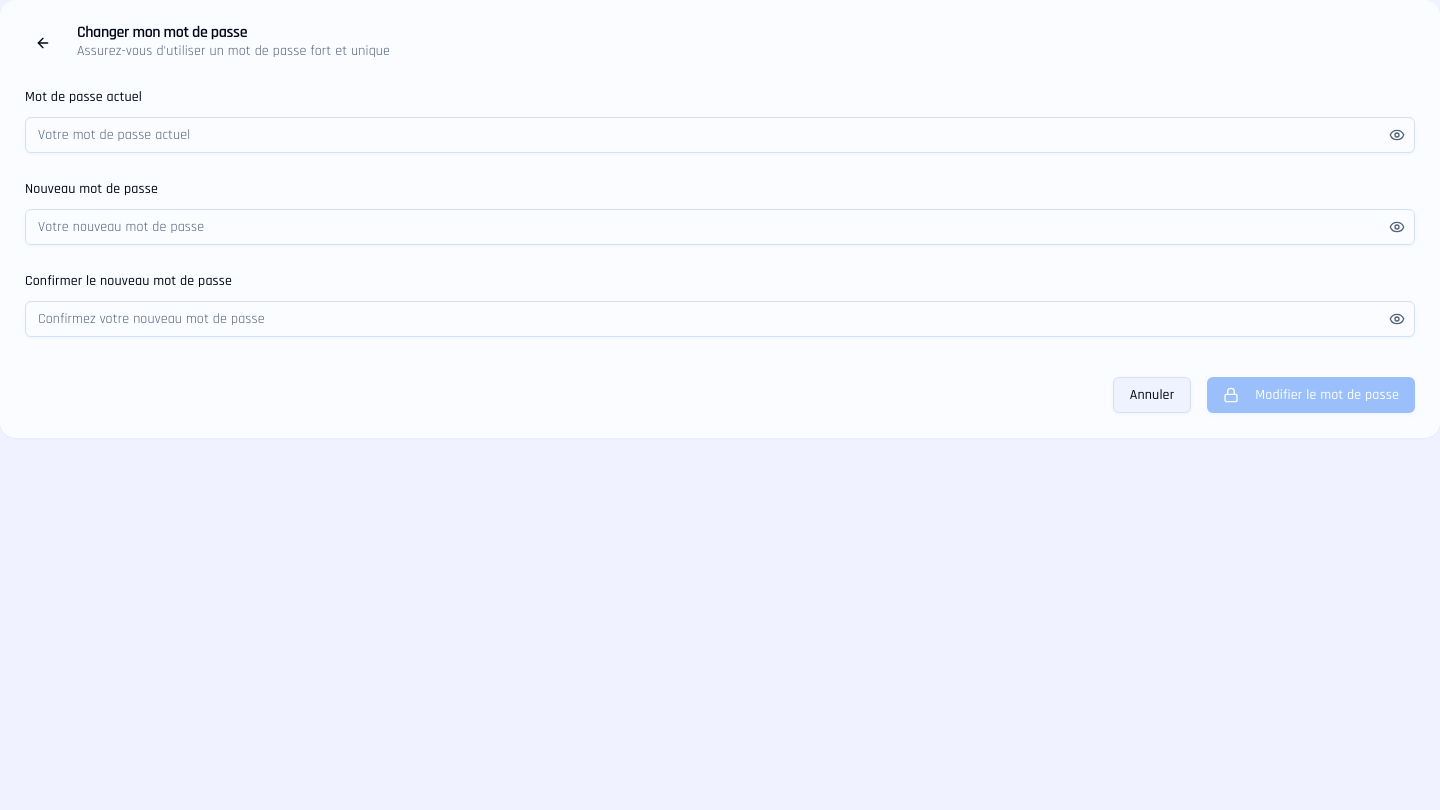
Test: ChangePasswordForm › Validation côté client › should show error when newPassword is too weak
The image size is (1440, 810).
Type "OldPass123!" into the password field with test id "input-currentPassword" at point(720, 135), box [25,117,1415,153]
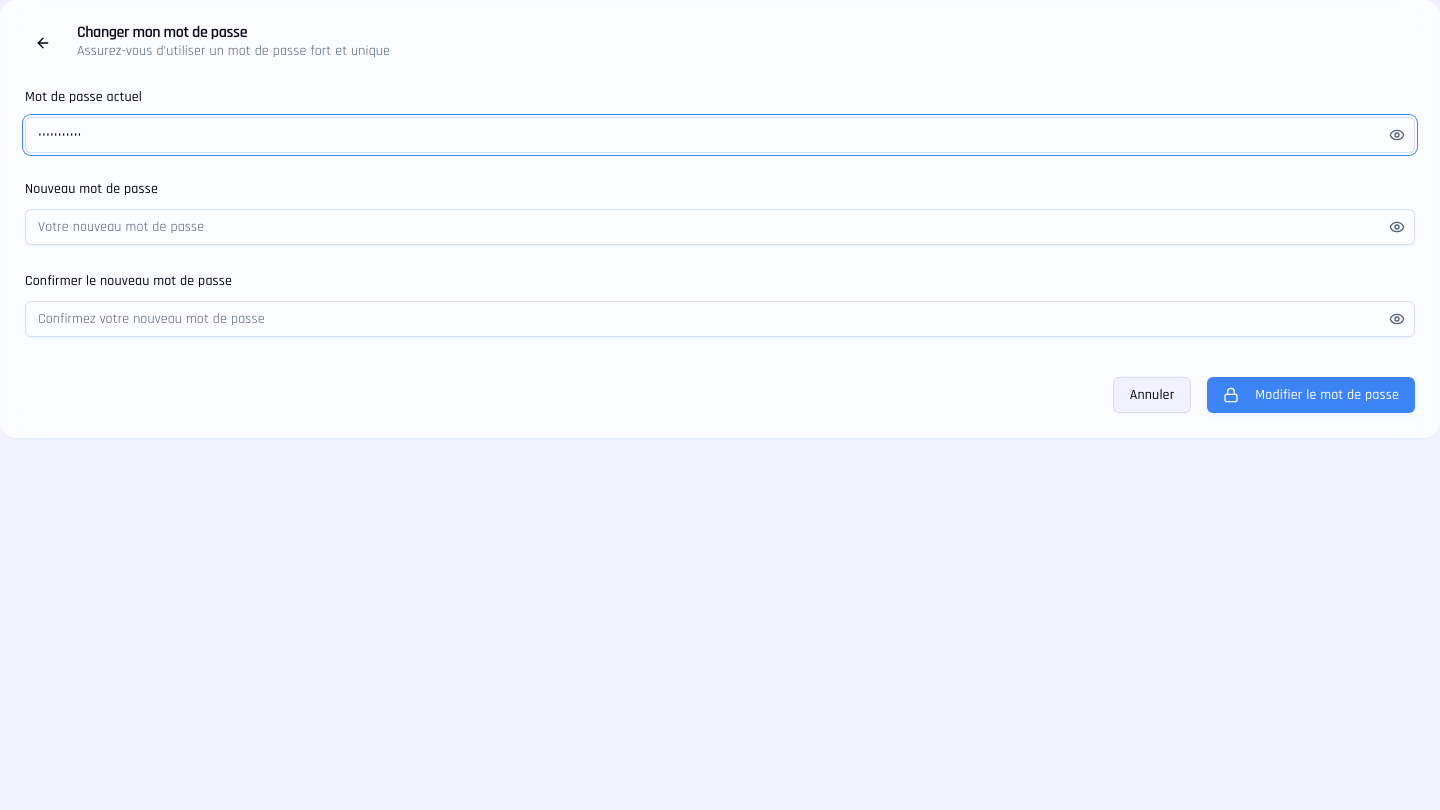
Type "weak" into the password field with test id "input-newPassword" at point(720, 227), box [25,209,1415,245]
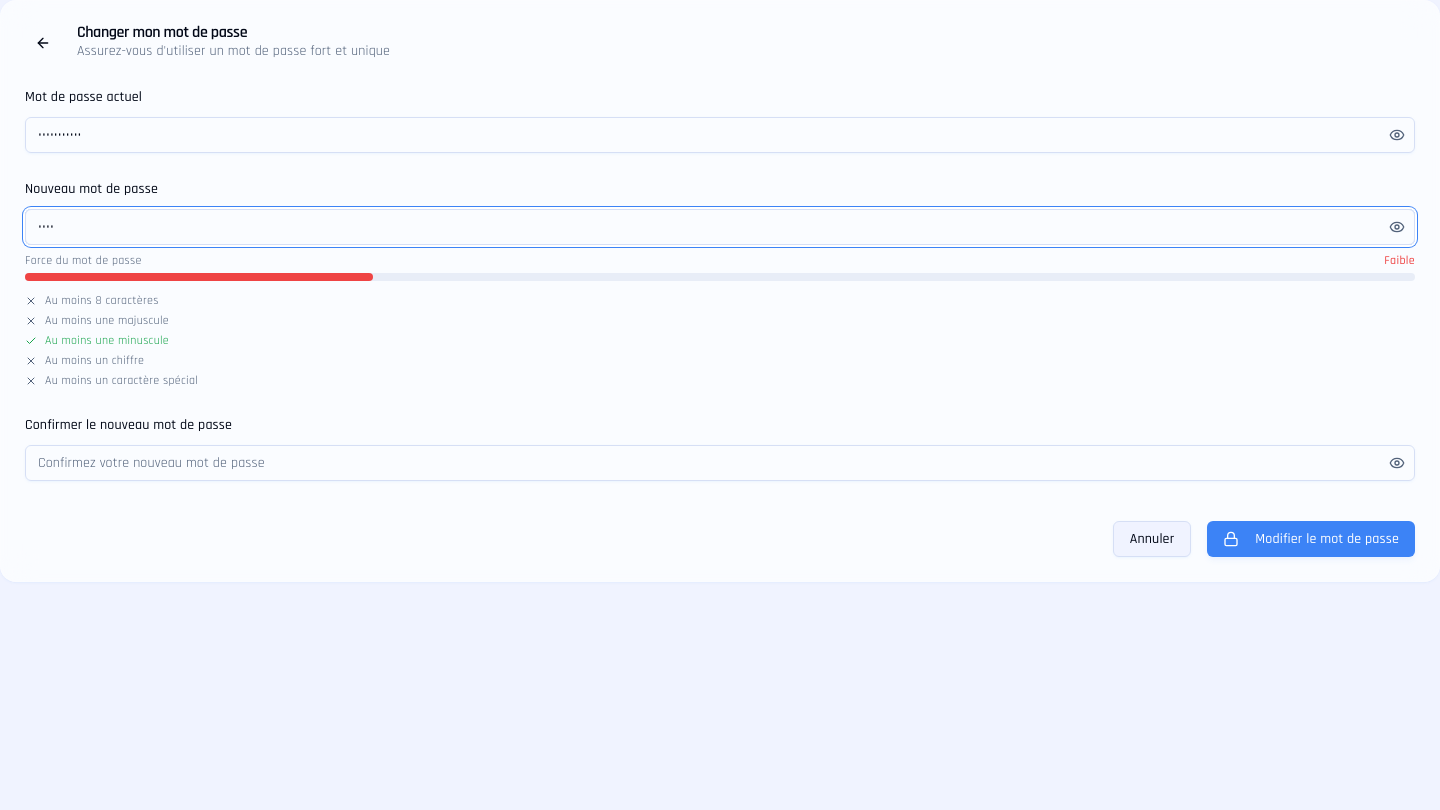
Type "weak" into the password field with test id "input-confirmNewPassword" at point(720, 463), box [25,445,1415,481]
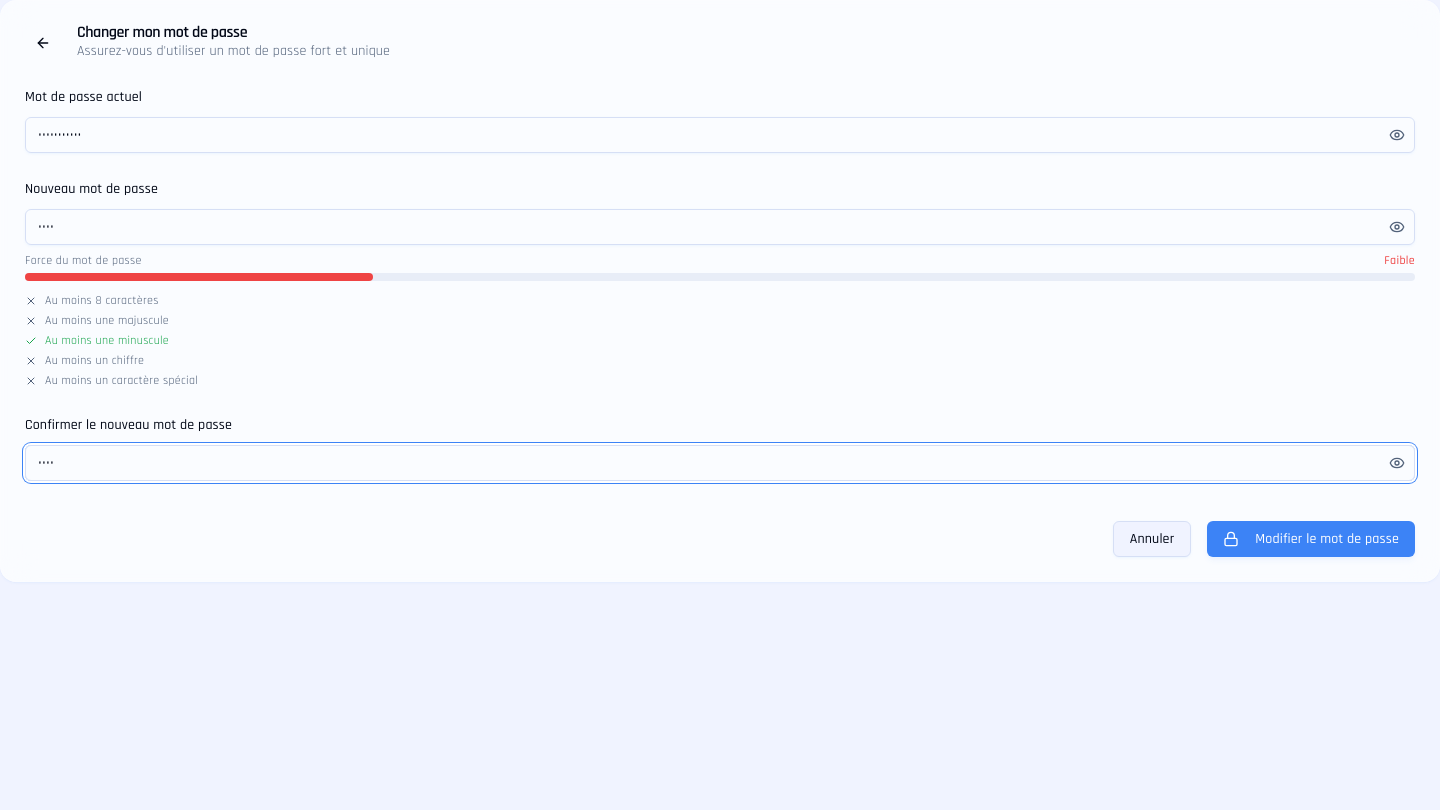
Click the button with test id "submit-button" at point(1311, 539), box [1207,521,1415,557]
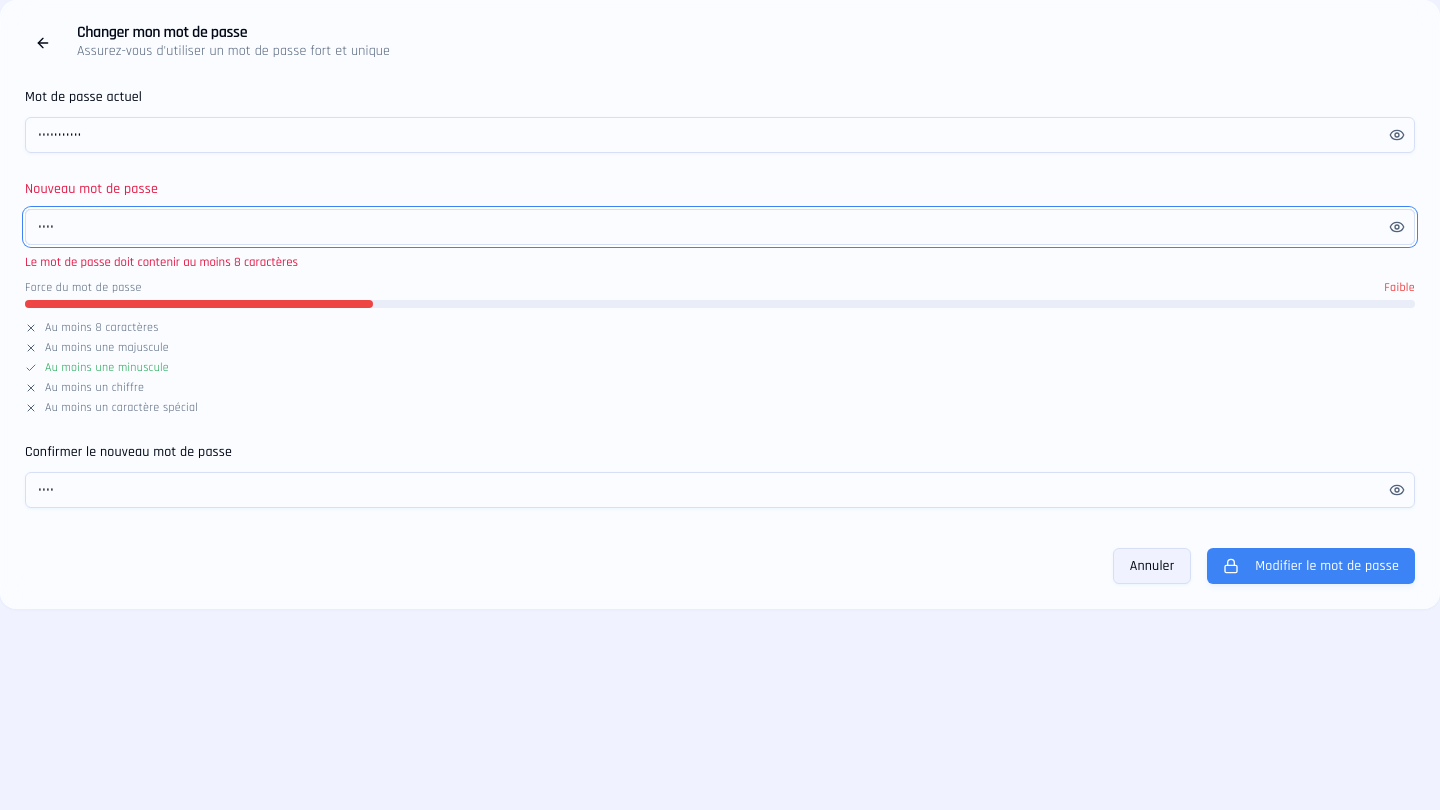
Now the text "Le mot de passe doit contenir au moins 8 caractères" is shown, box [25,254,298,270]
